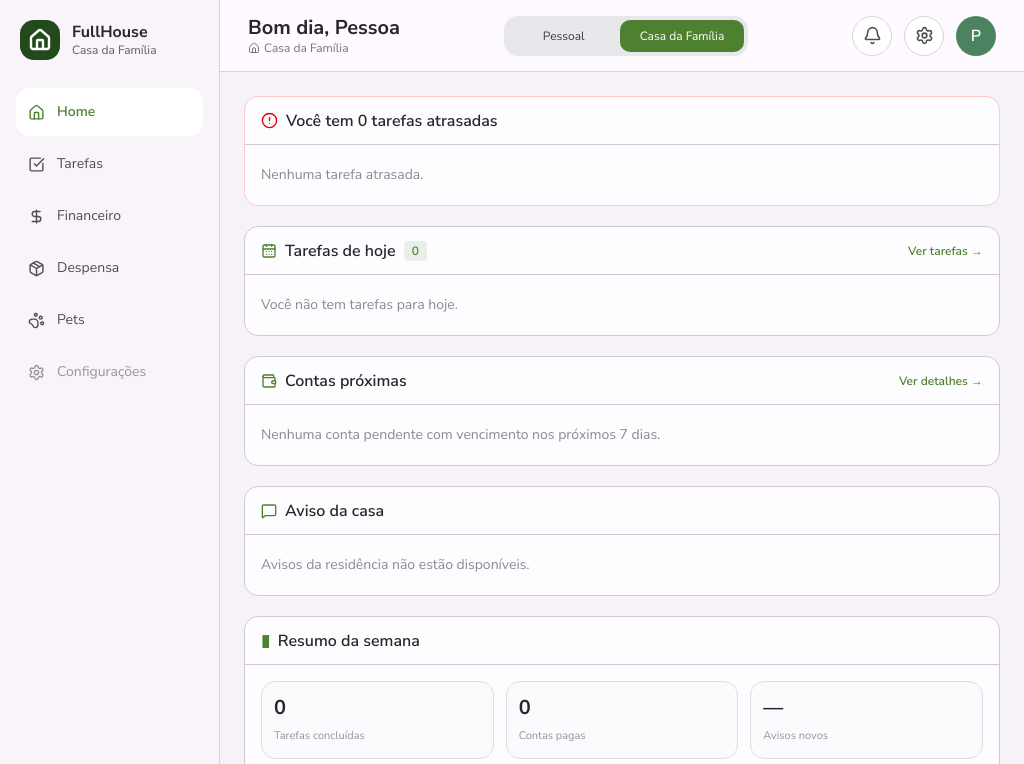
HomePage › shows personal task data when its expense query reports a partial failure
Click the button "Pessoal".
click(564, 36)  # box [508,20,620,52]
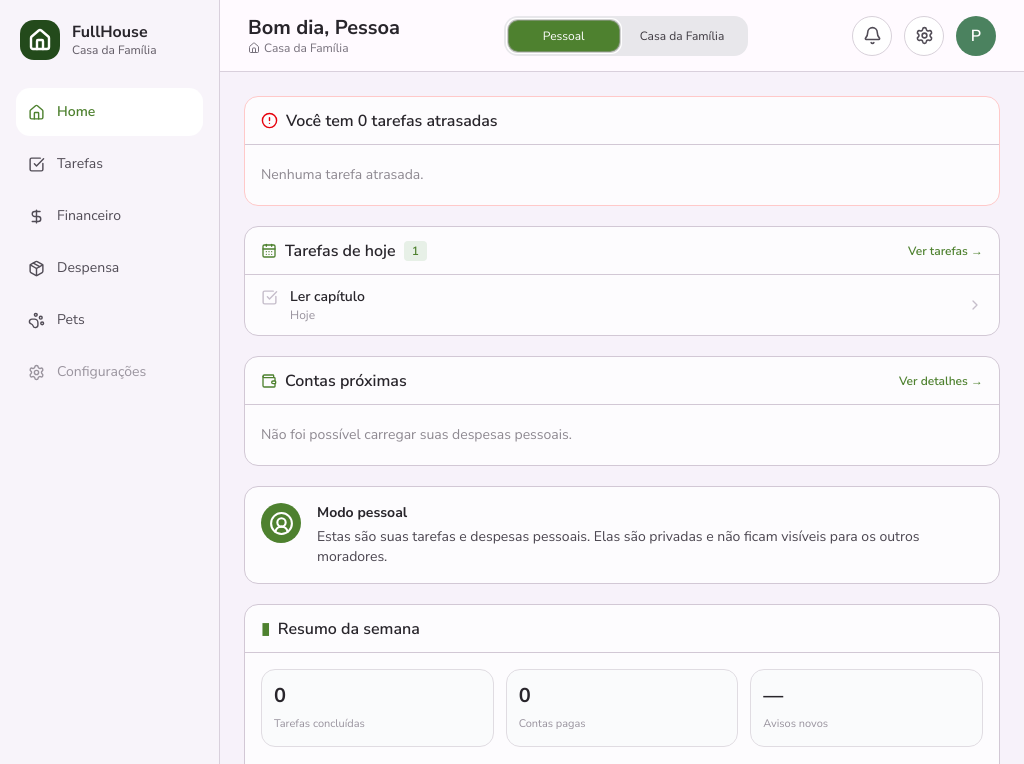
Now the text "Ler capítulo" is shown, box [290,287,365,307]
Now the text "Não foi possível carregar suas despesas pessoais." is shown, box [261,425,572,444]
